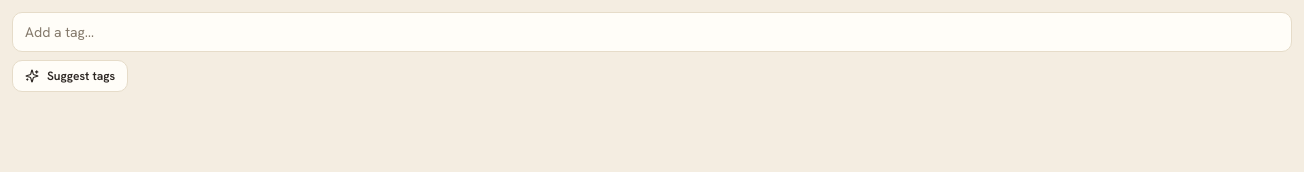
it: ItemTagsEditor › explains a name held by a tag of another kind
Type "dinner" into the dropdown at (652, 32), box [12,12,1292,52]
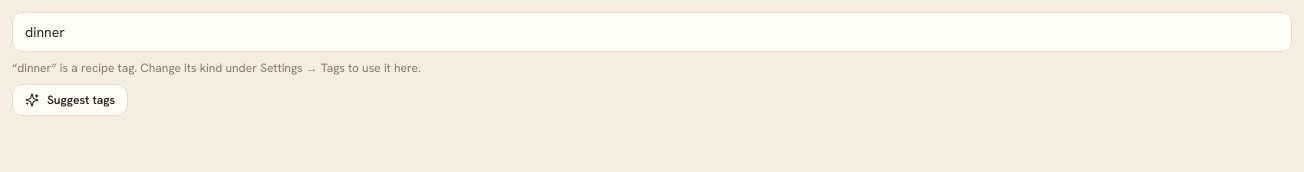
Check: the text "Settings → Tags" is shown, box [12,60,421,76]
